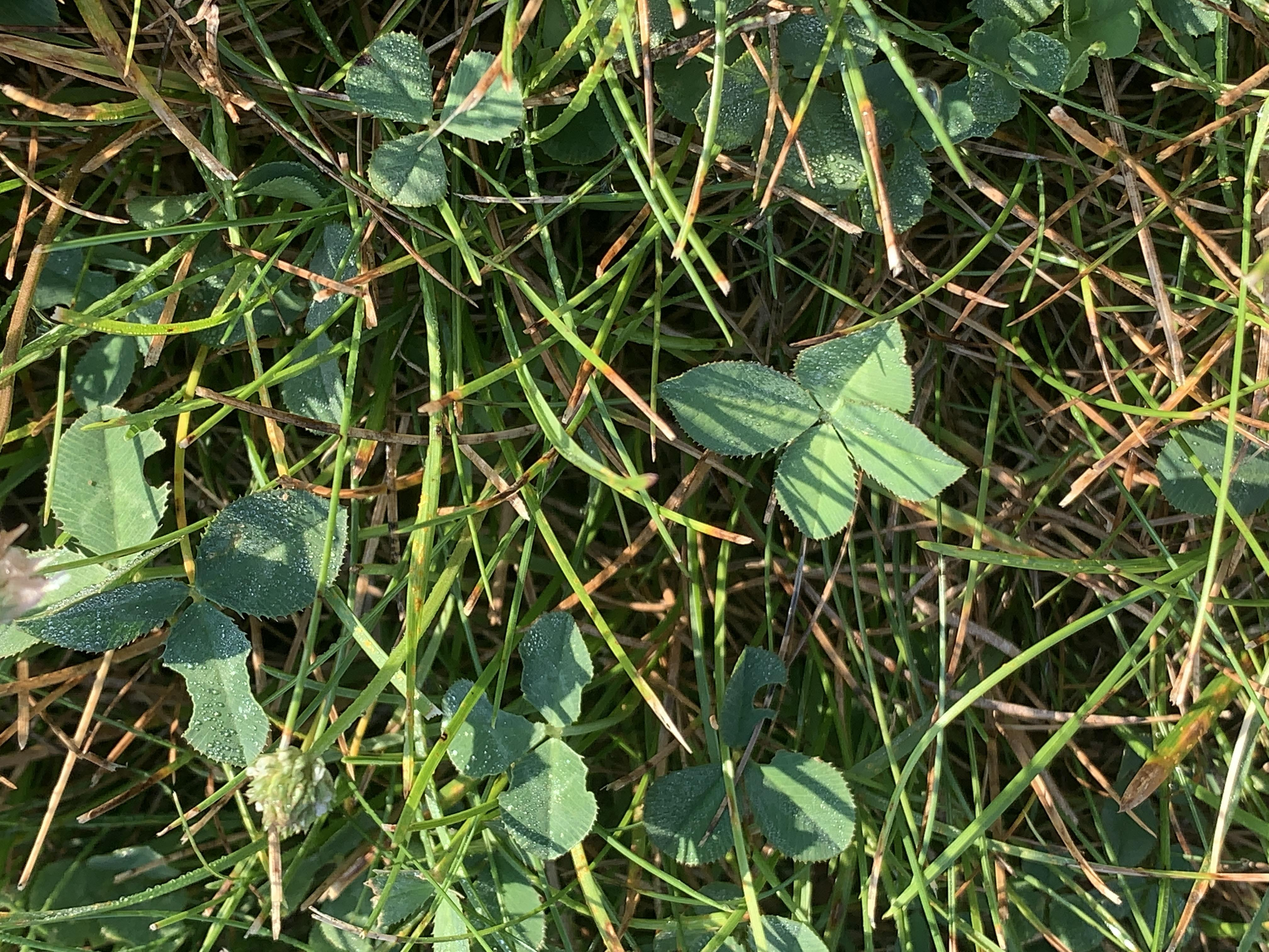4-Leaf-Clovers: (546, 498, 827, 710)
